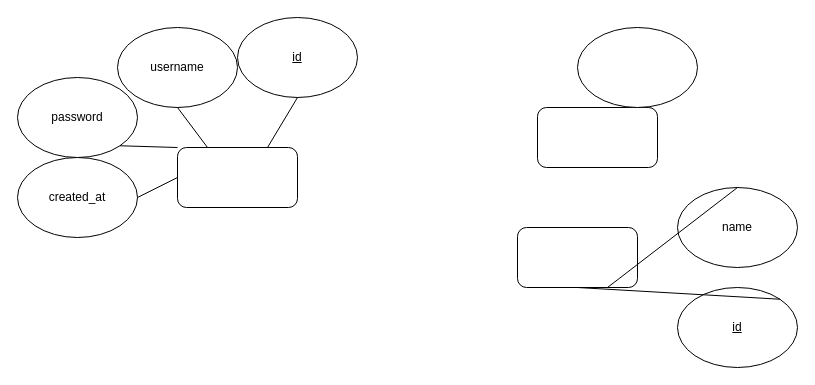
Some shapes in this 815 by 385 pixel diagram are drawn without their labels. The box of each missing label's shape, as (x1, y1, x2, y2) in pixels:
Chats: (536, 106, 658, 168)
Groupchat: (516, 226, 638, 288)
Users: (176, 146, 298, 208)
